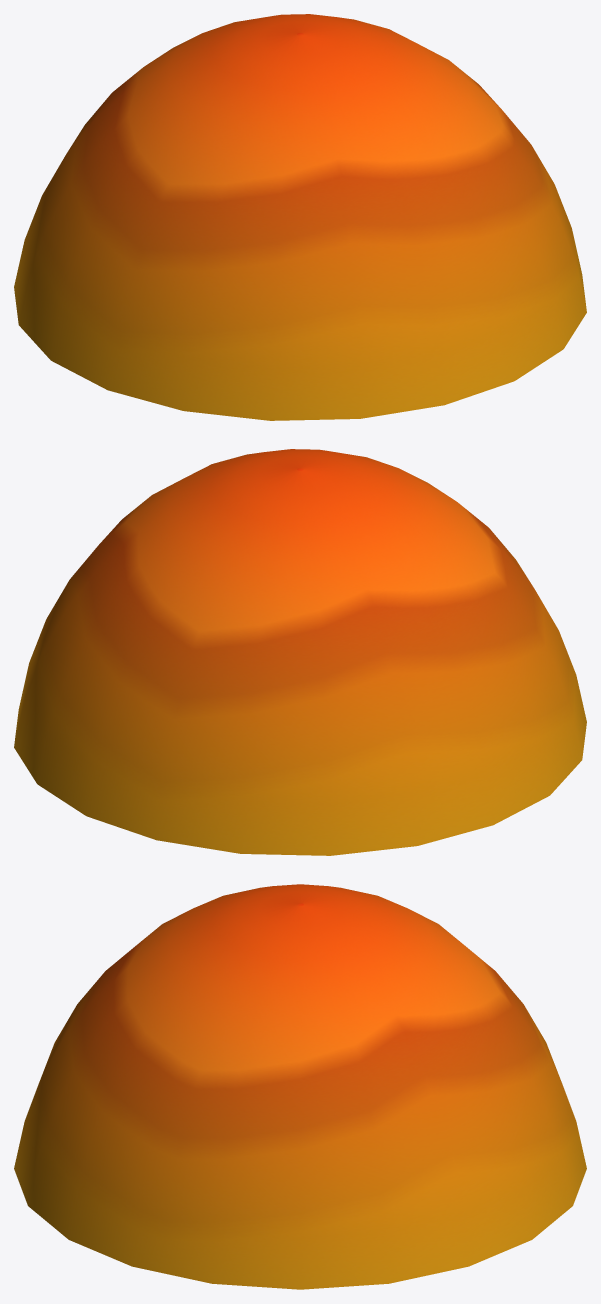
Rendered from BomberMan_Blast.fbx.
The picture shows the model from 3 angles, top to bottom: view 1: azimuth 30°, elevation 25°; view 2: azimuth 150°, elevation 25°; view 3: azimuth 270°, elevation 25°; orthographic projection.
Parts seen in each view (by area): view 1: Model_roup:pSphere1; view 2: Model_roup:pSphere1; view 3: Model_roup:pSphere1.
Boxes of the visible parts, left/top/right/bottom form: Model_roup:pSphere1: left=14, top=14, right=586, bottom=420; Model_roup:pSphere1: left=14, top=449, right=586, bottom=855; Model_roup:pSphere1: left=14, top=884, right=586, bottom=1289.
Bounding box in the file's own units: 32.27 × 16.43 × 32.27.
